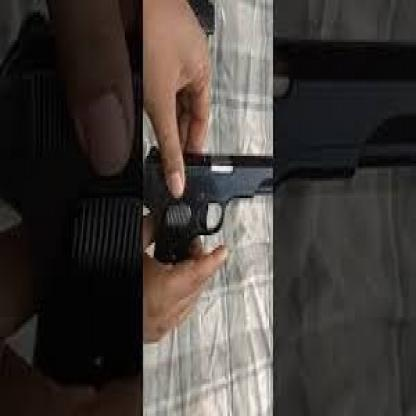Pistol: (143, 131, 274, 292)
